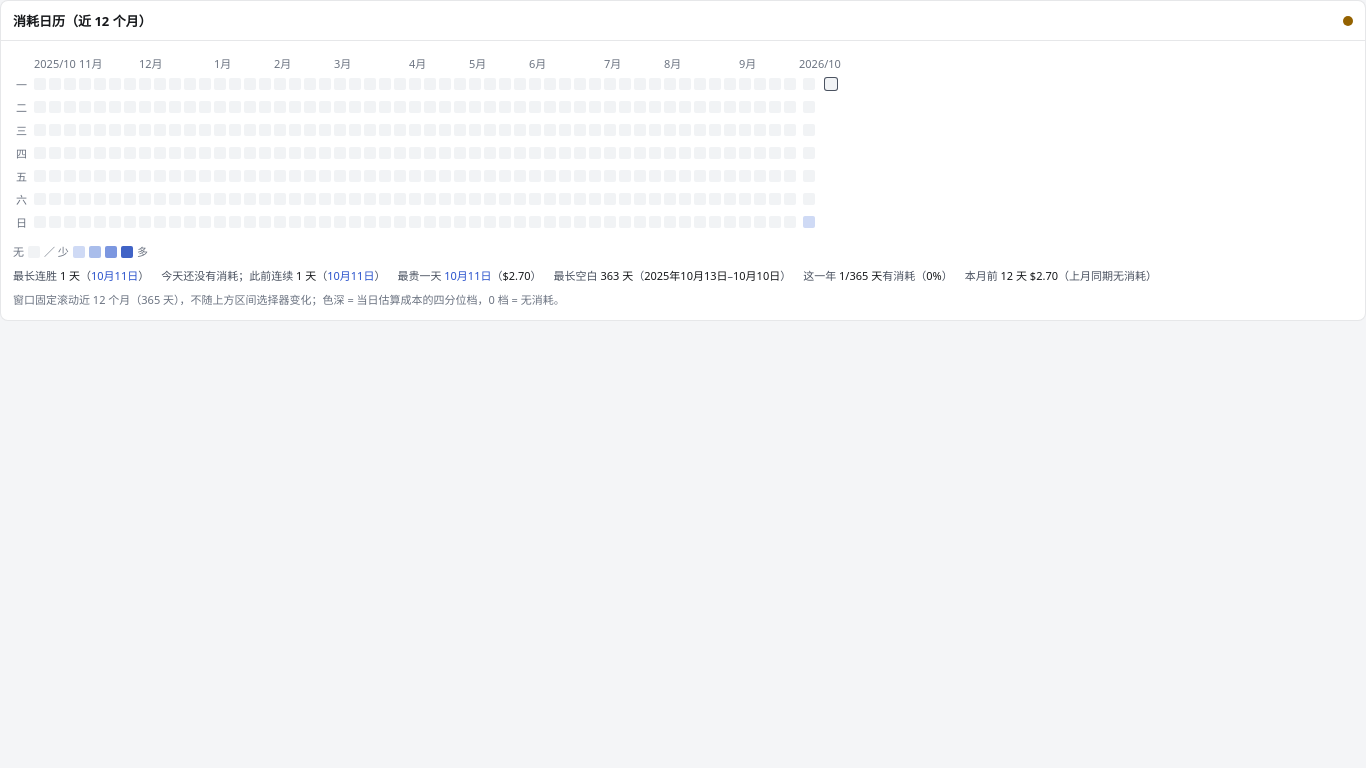
it: UsageCalendarPanel · 一日回望（Round V2） › 日摘要六项：顺序、标签、值、悬停原文与出处徽章逐字
The image size is (1366, 768).
Click the button named "2026年10月11日 · 估算成本 $2.70 · 900,000 tok · 2 个会话 · cal" at (809, 222), box [803,216,815,228]
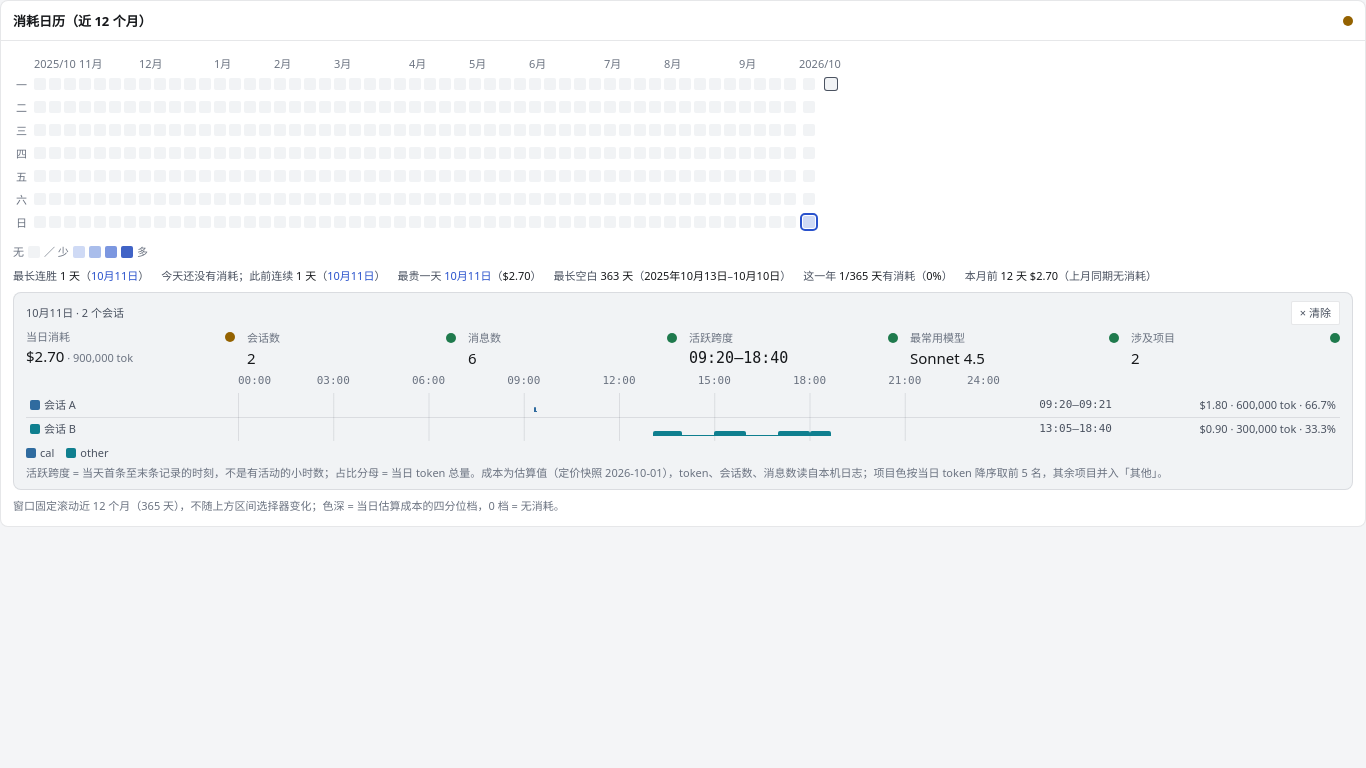
Expected: the element that starts with "当日消耗" is shown, [26,329,1340,369]
Expected: the text "当日消耗" is shown, [26,329,70,344]
Expected: the element showing "$2.70 · 900,000 tok" is shown, [26,346,133,366]
